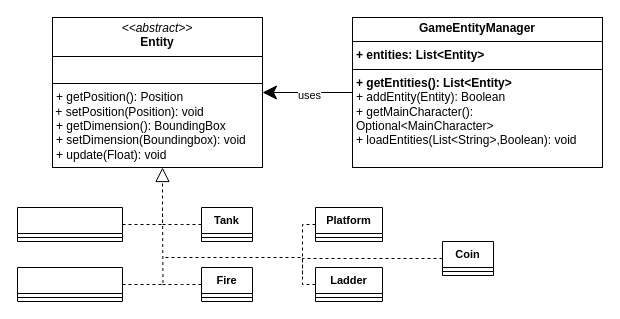
Some shapes in this 620 by 319 pixel diagram are drawn without their labels. Each missing label, with the centre of its shape:
"DonkeyKong" belongs at point (69, 224).
"Pauline" belongs at point (69, 284).
